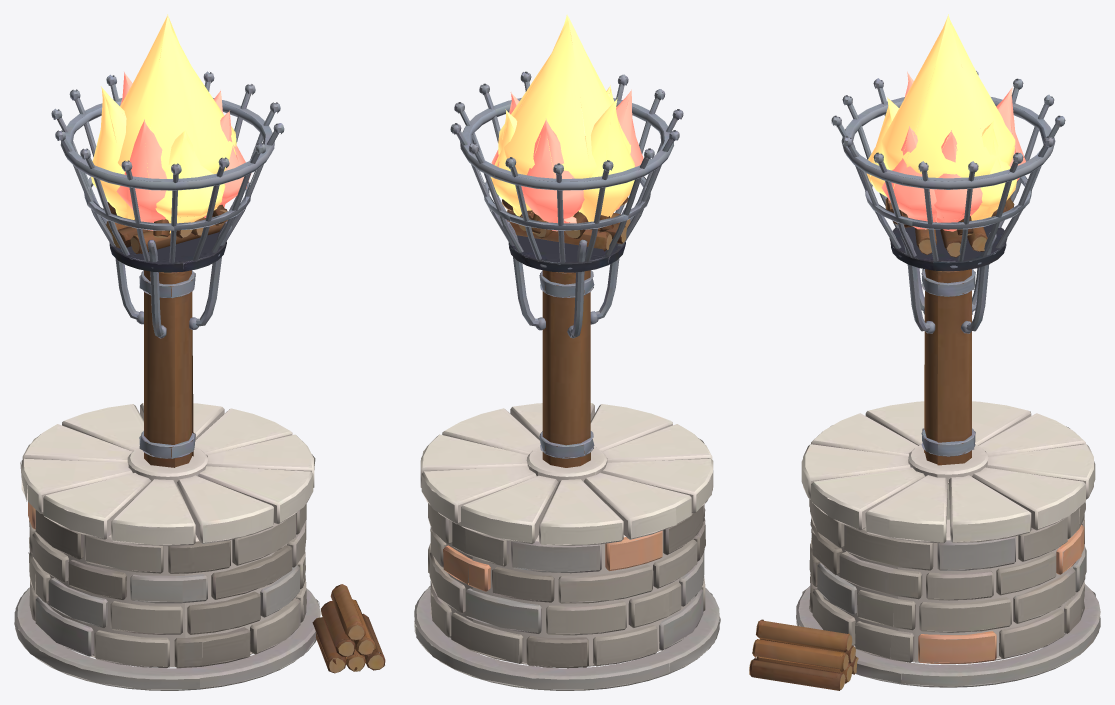
Rendered from almenara.glb.
3 renders of one model, left to right at view 1: azimuth 30°, elevation 25°; view 2: azimuth 150°, elevation 25°; view 3: azimuth 270°, elevation 25°, orthographic.
Parts seen in each view (by area): view 1: beacon-fire_body; view 2: beacon-fire_body; view 3: beacon-fire_body.
Part boxes in pixels (x1,y1,x2,y2): beacon-fire_body: [14, 14, 385, 690]; beacon-fire_body: [414, 14, 720, 690]; beacon-fire_body: [749, 14, 1100, 690].
Bounding box in the file's own units: 1.6 × 3.36 × 1.76.
4 materials, 1 textured.
